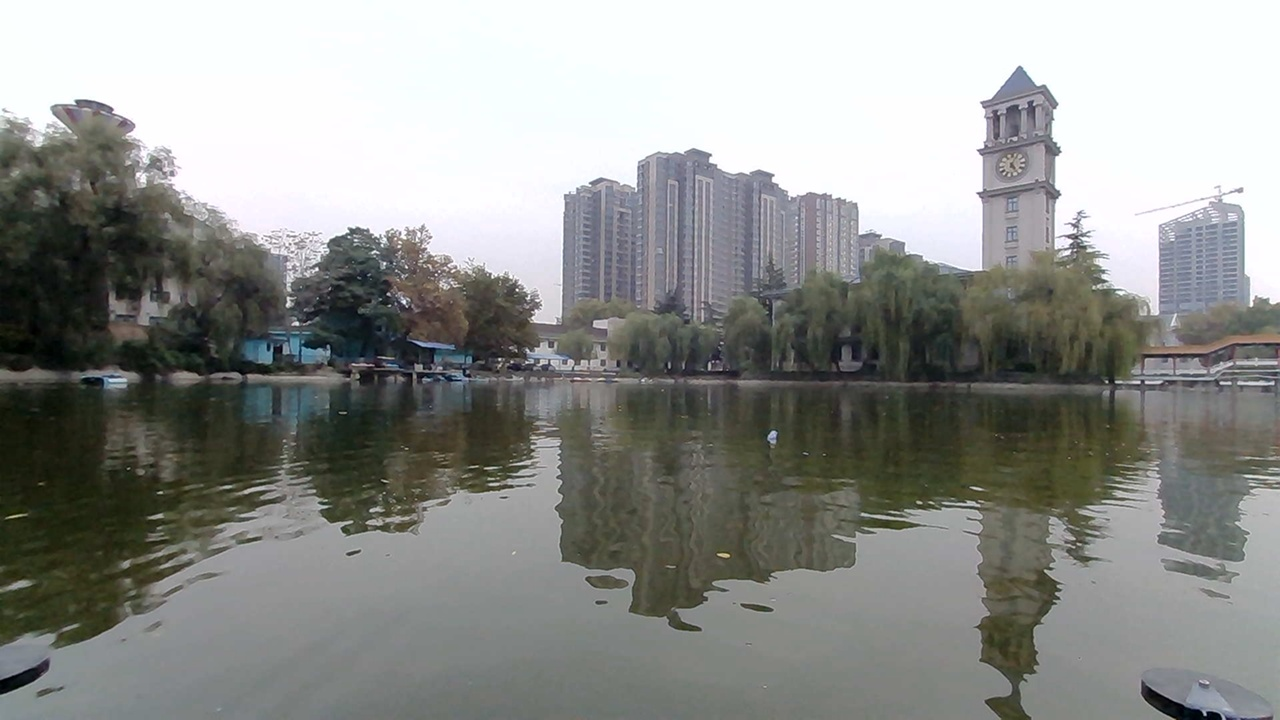bottle: (752, 419, 801, 451)
